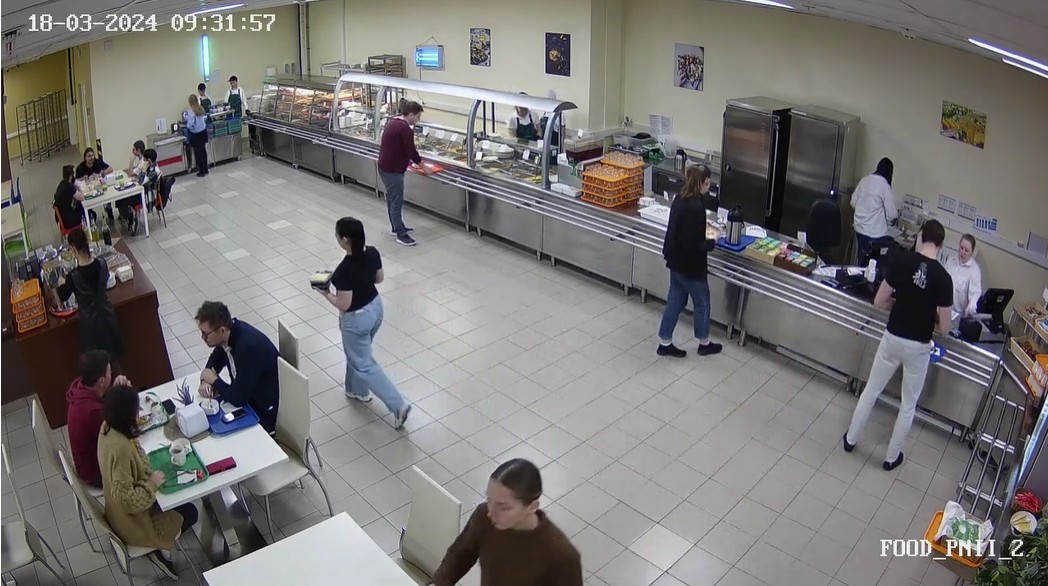Na_Kasse: (785, 209, 977, 476)
Ne_v_Ocheredi: (310, 218, 420, 432), (430, 452, 603, 586), (59, 228, 125, 347)
Personal: (849, 150, 898, 263), (954, 223, 994, 310), (222, 69, 258, 123), (509, 91, 541, 147), (192, 79, 233, 116)
Vybiraet: (652, 151, 736, 366), (376, 92, 444, 250), (184, 91, 215, 175)
Za_Stolom: (188, 292, 287, 441), (35, 341, 124, 487), (93, 383, 168, 547), (52, 160, 92, 225), (72, 142, 117, 183), (136, 150, 166, 210), (121, 137, 147, 175)
